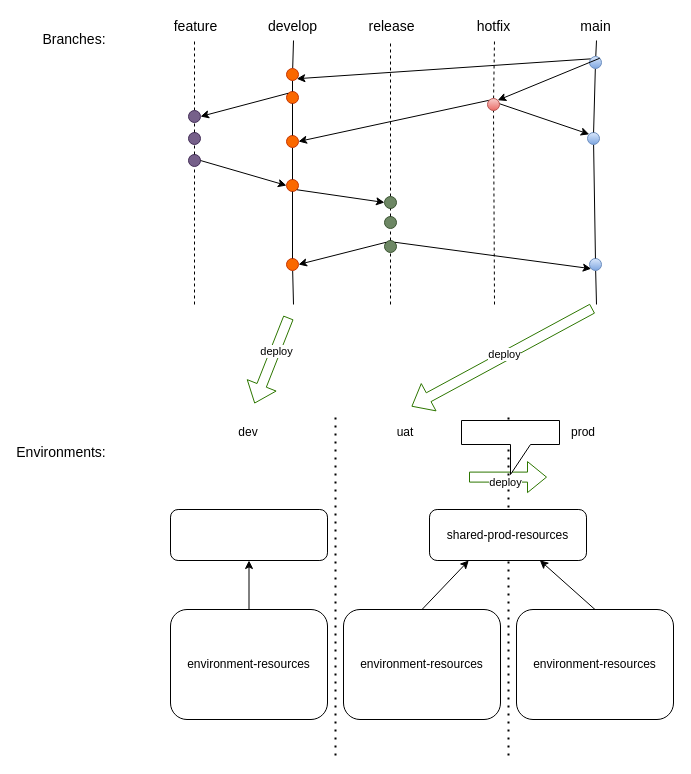
This 691x774 diagram has some shape labels left out. The centre of each missing label's shape, as x and y in pixels:
"confirmation" belongs at point 510,447.
"shared-nonprod-resources" belongs at point 249,534.
